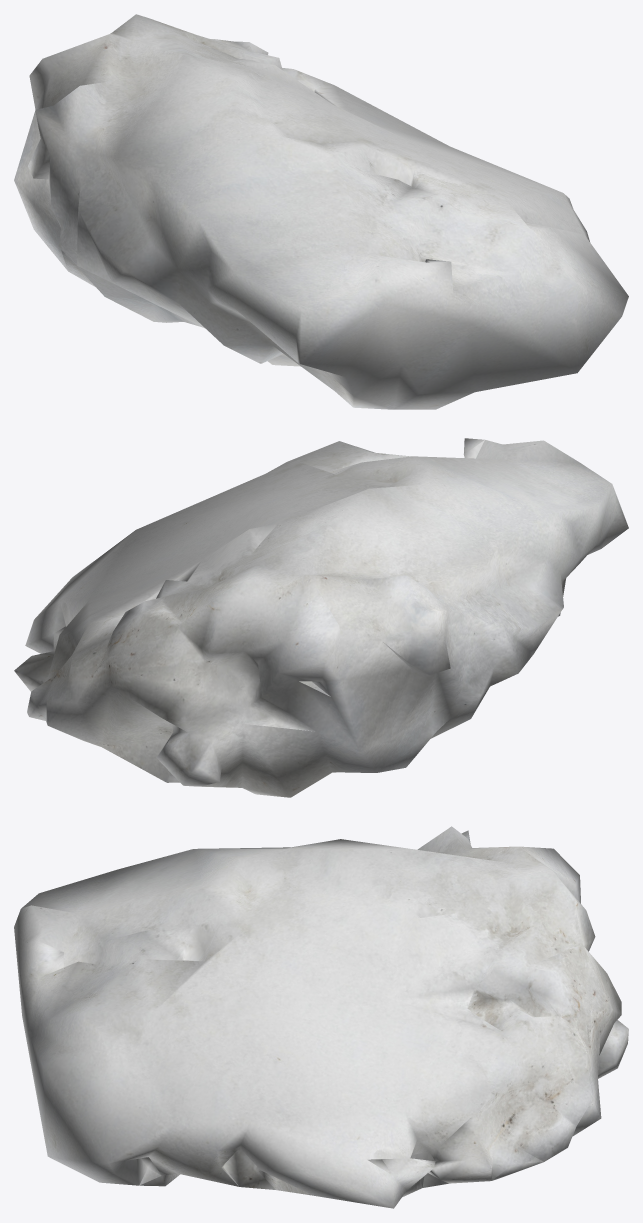
File: Snow_Clump_1.obj
3 views of the same model, one above another, from view 1: azimuth 30°, elevation 25°; view 2: azimuth 150°, elevation 25°; view 3: azimuth 270°, elevation 25° (orthographic). The views are drawn at different scales.
Visible parts, largest first — view 1: xe0nfaoqx_LOD0_TIER3_000; view 2: xe0nfaoqx_LOD0_TIER3_000; view 3: xe0nfaoqx_LOD0_TIER3_000.
Boxes of the visible parts, x1,y1,x2,y2 form: xe0nfaoqx_LOD0_TIER3_000: (14,14,628,409); xe0nfaoqx_LOD0_TIER3_000: (14,438,628,797); xe0nfaoqx_LOD0_TIER3_000: (14,826,628,1208).
Size of the model in its own units: 0.2676 by 0.1385 by 0.3102.
Materials: 1 (1 with a texture image).
